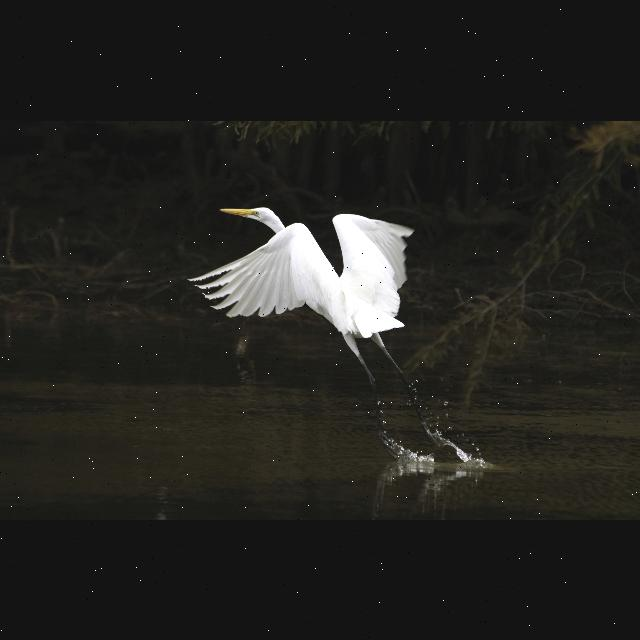egret: (188, 204, 428, 376)
